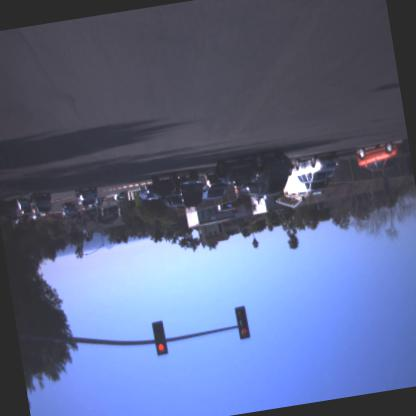trafficlight: (149, 316, 169, 356), (233, 302, 252, 340)
